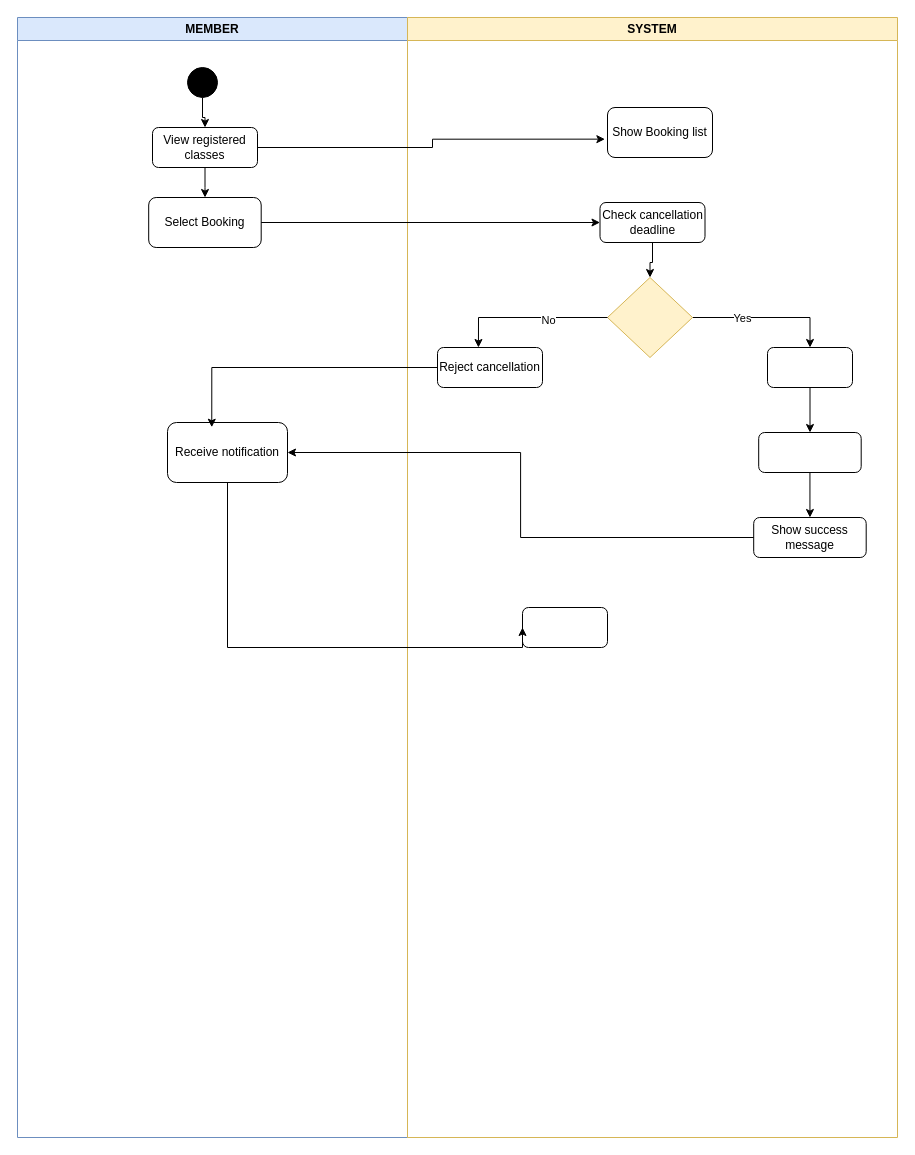
Image size: 915x1155. Some labels were removed from this diagram. The centre of each missing label's shape, as x and y in pixels:
"Cancel Booking" belongs at point 809,367.
"End" belongs at point 565,627.
"Update available slots" belongs at point 809,452.
"Within cancellation window?" belongs at point 649,317.
